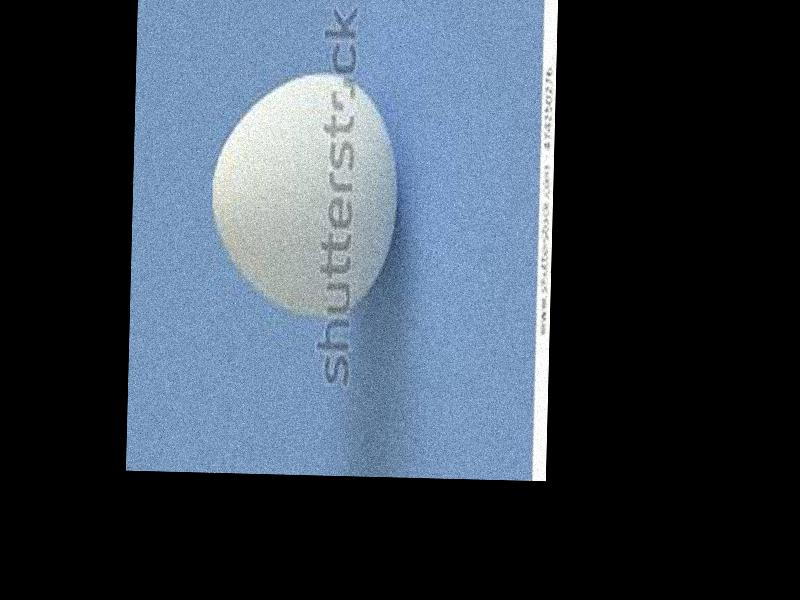Eggs: (209, 69, 402, 319)
